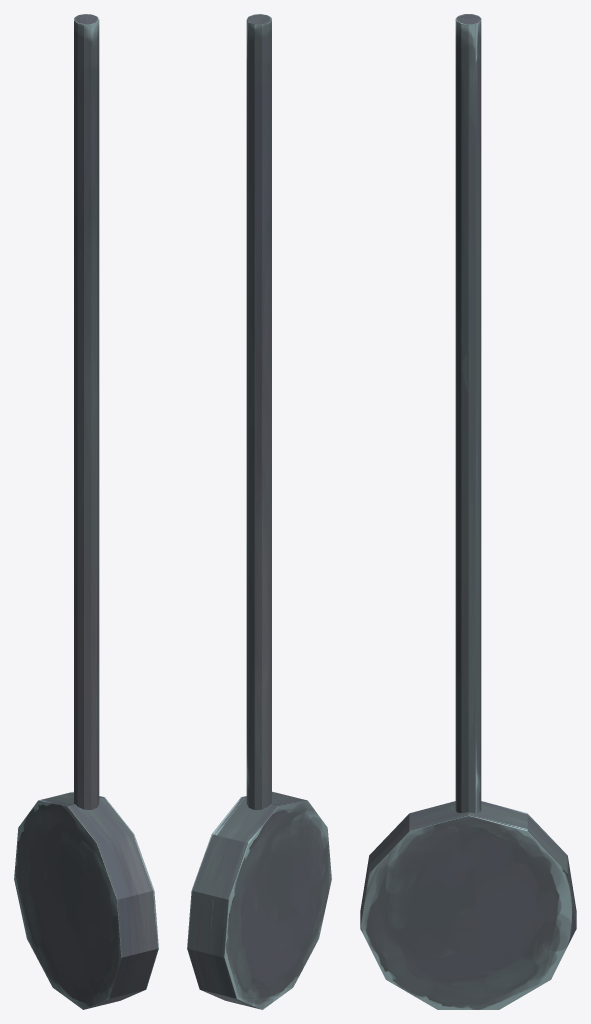
The model's file is Pendulo (Palo aparte).fbx.
3 views of the same model, side by side, from view 1: azimuth 30°, elevation 25°; view 2: azimuth 150°, elevation 25°; view 3: azimuth 270°, elevation 25° (orthographic).
Parts seen in each view (by area): view 1: pCylinder1, pCylinder2; view 2: pCylinder1, pCylinder2; view 3: pCylinder1, pCylinder2.
Boxes of the visible parts, x1,y1,x2,y2 form: pCylinder1: [14, 791, 158, 1009]; pCylinder2: [74, 14, 99, 809]; pCylinder1: [187, 791, 331, 1009]; pCylinder2: [246, 14, 271, 809]; pCylinder1: [360, 801, 576, 1009]; pCylinder2: [455, 14, 481, 813].
Bounding box in the file's own units: 0.4048 × 9.92 × 1.98.
